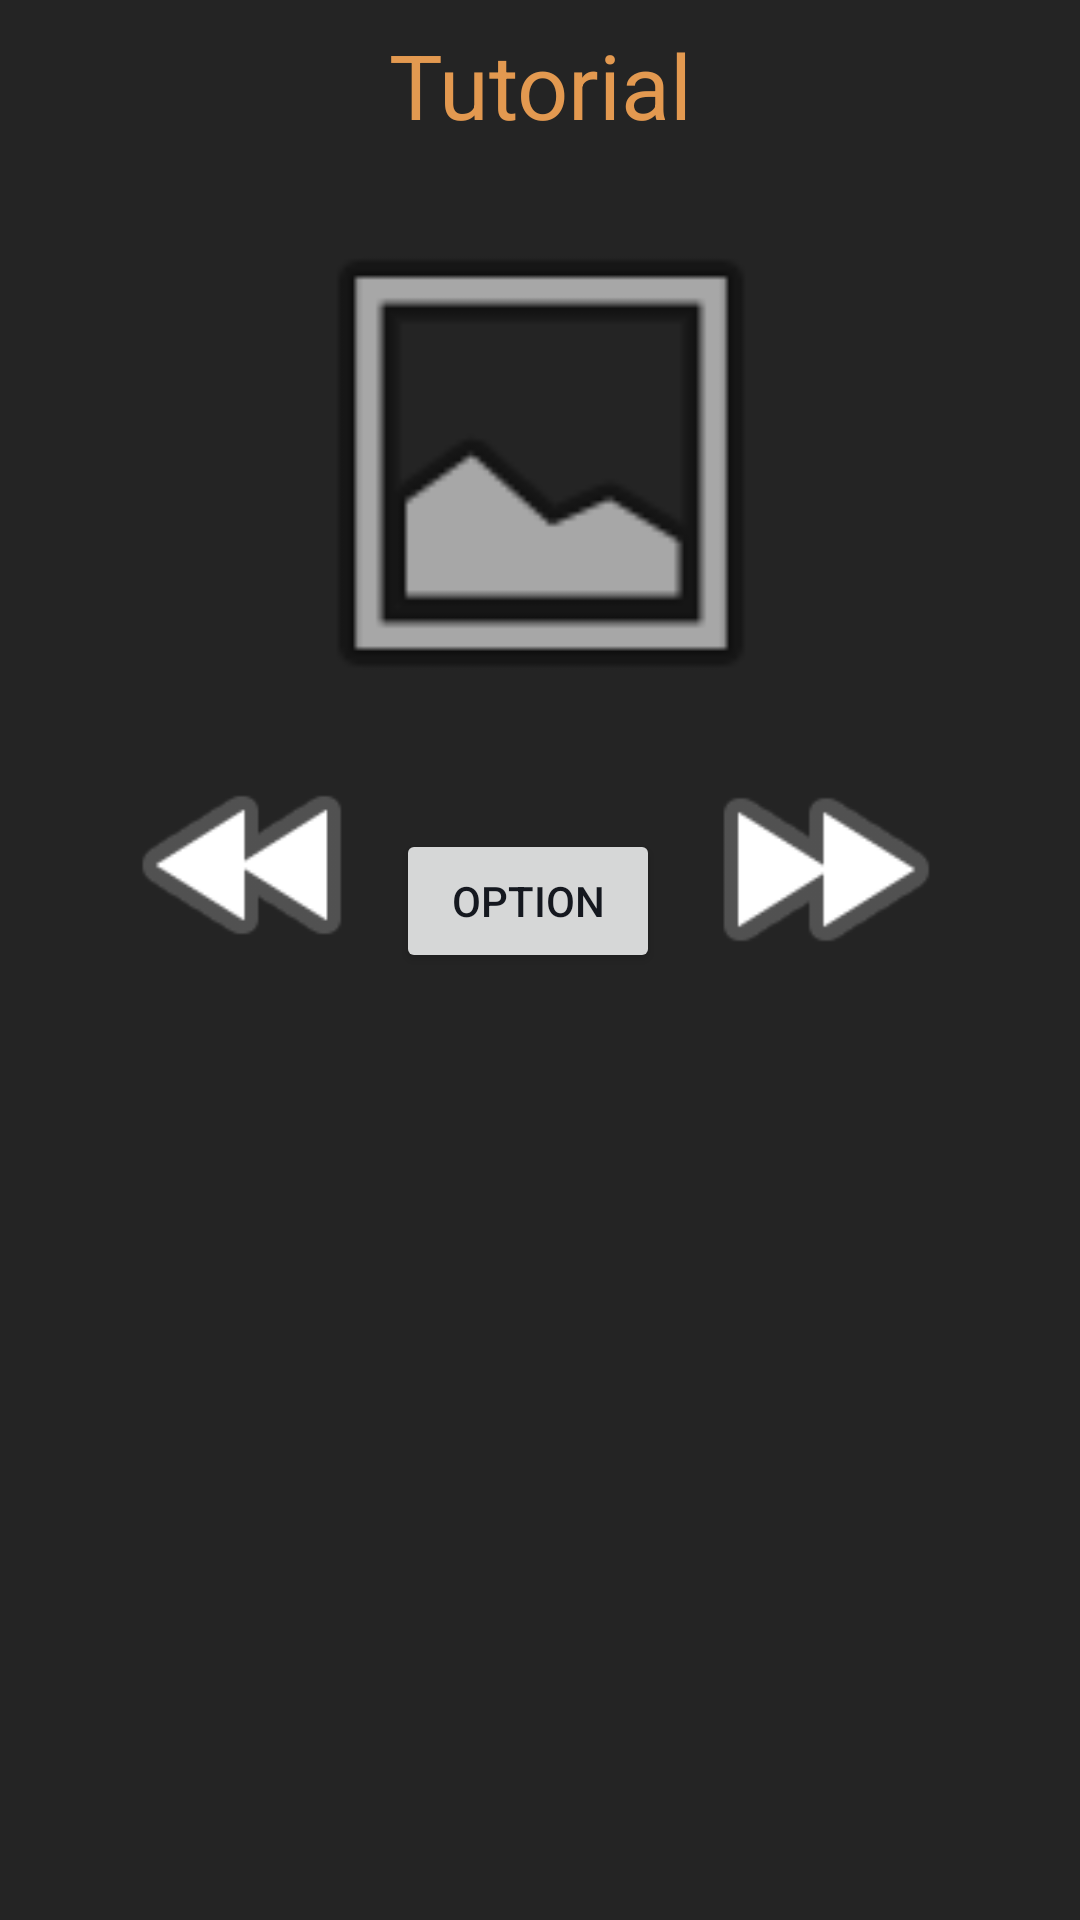

Where to tap for icons on this 1080px×1920px app screen, as (x,y):
rew: (242,865)
